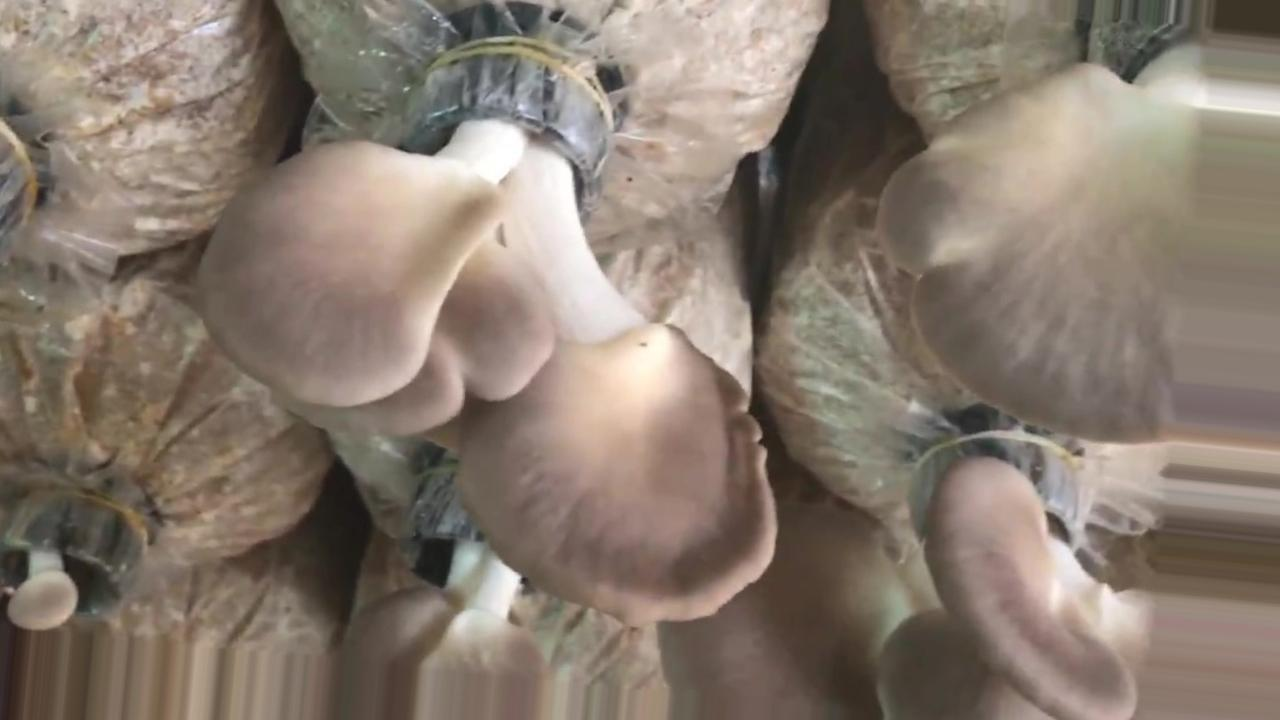nam: (202, 49, 776, 621), (882, 1, 1279, 442), (656, 427, 1136, 720), (340, 459, 548, 719), (1, 482, 130, 631)
